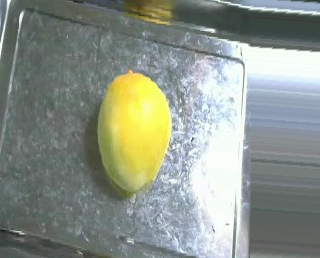Mango: (86, 64, 173, 189)
